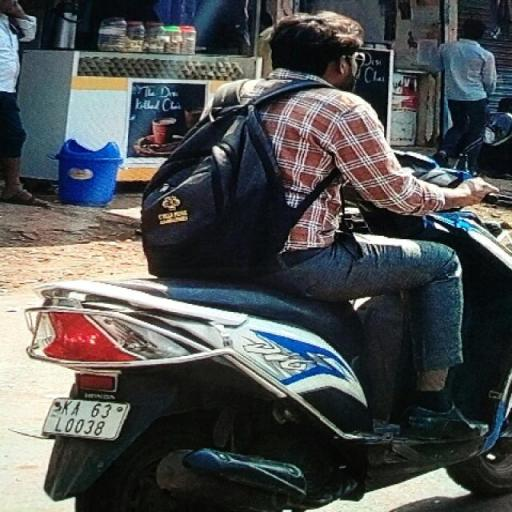bike: (14, 5, 512, 512)
numberplate: (40, 396, 126, 440)
withouthelmet: (272, 13, 361, 80)
